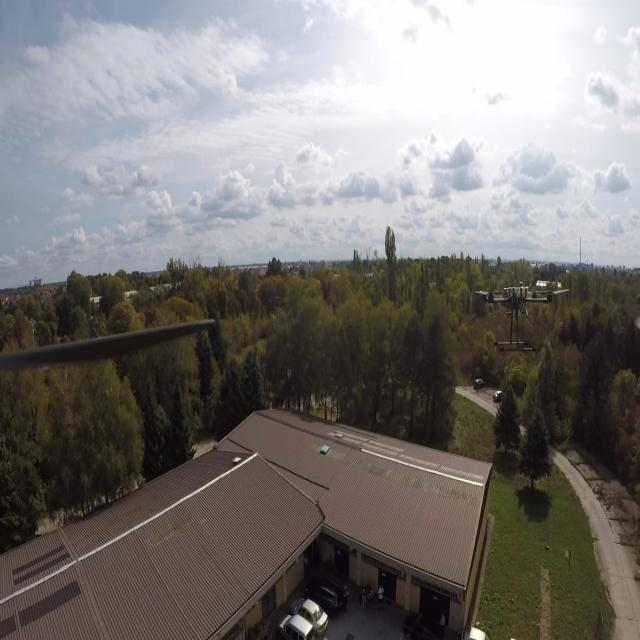UAV: (470, 279, 570, 353)
